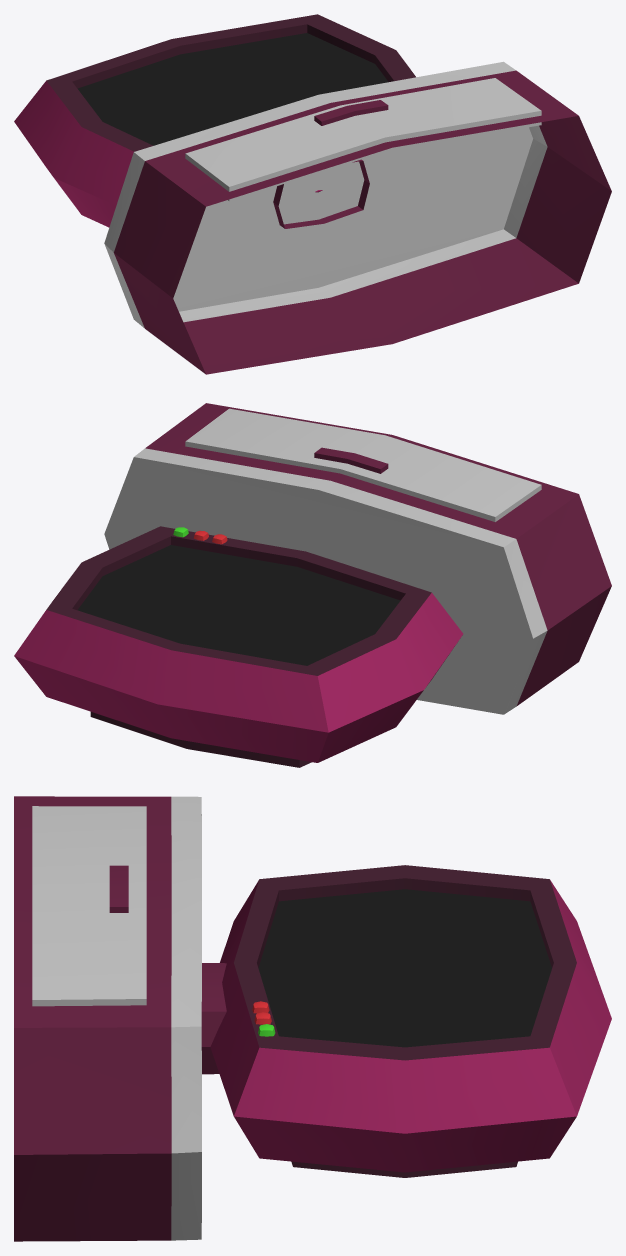
The picture shows the model from 3 angles, top to bottom: view 1: azimuth 30°, elevation 25°; view 2: azimuth 150°, elevation 25°; view 3: azimuth 270°, elevation 25°; orthographic projection. The views are drawn at different scales.
Parts seen in each view (by area): view 1: TV 01; view 2: TV 01; view 3: TV 01.
Part boxes in pixels (x1,y1,x2,y2): TV 01: [14, 14, 611, 374]; TV 01: [14, 403, 611, 767]; TV 01: [14, 796, 611, 1241].
Bounding box in the file's own units: 157 × 70.1 × 145.
